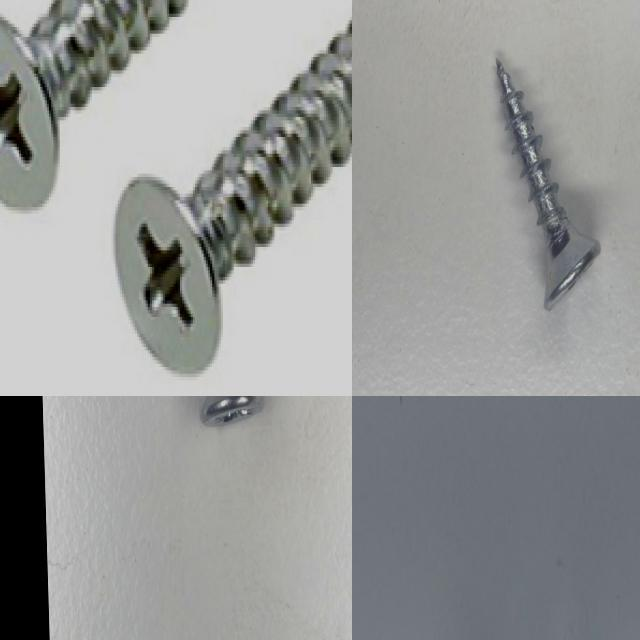Screw: (116, 23, 352, 372), (0, 0, 192, 209), (497, 58, 601, 309), (200, 396, 264, 425)
